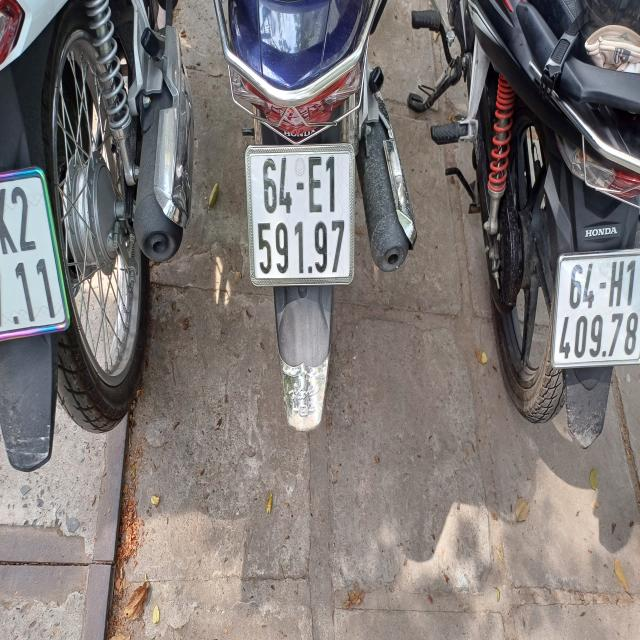0: (575, 316, 587, 358)
1: (325, 155, 337, 214), (294, 220, 307, 274), (626, 256, 636, 306)
4: (279, 157, 293, 217), (558, 316, 571, 360), (584, 262, 595, 311)
5: (256, 216, 272, 276)
6: (263, 157, 279, 214), (570, 262, 583, 314)
7: (332, 220, 346, 272), (608, 311, 623, 359)
8: (624, 312, 639, 356)
9: (312, 219, 328, 273), (276, 220, 290, 275), (590, 313, 604, 358)
E: (308, 156, 322, 214)
H: (608, 260, 625, 309)
